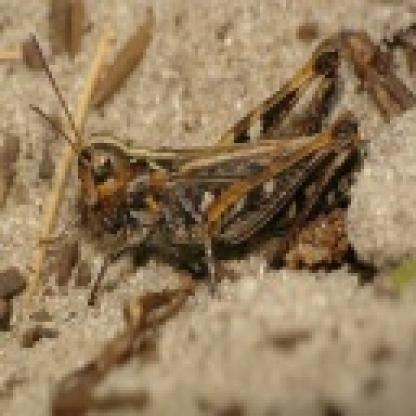grasshopper: (41, 36, 366, 285)
